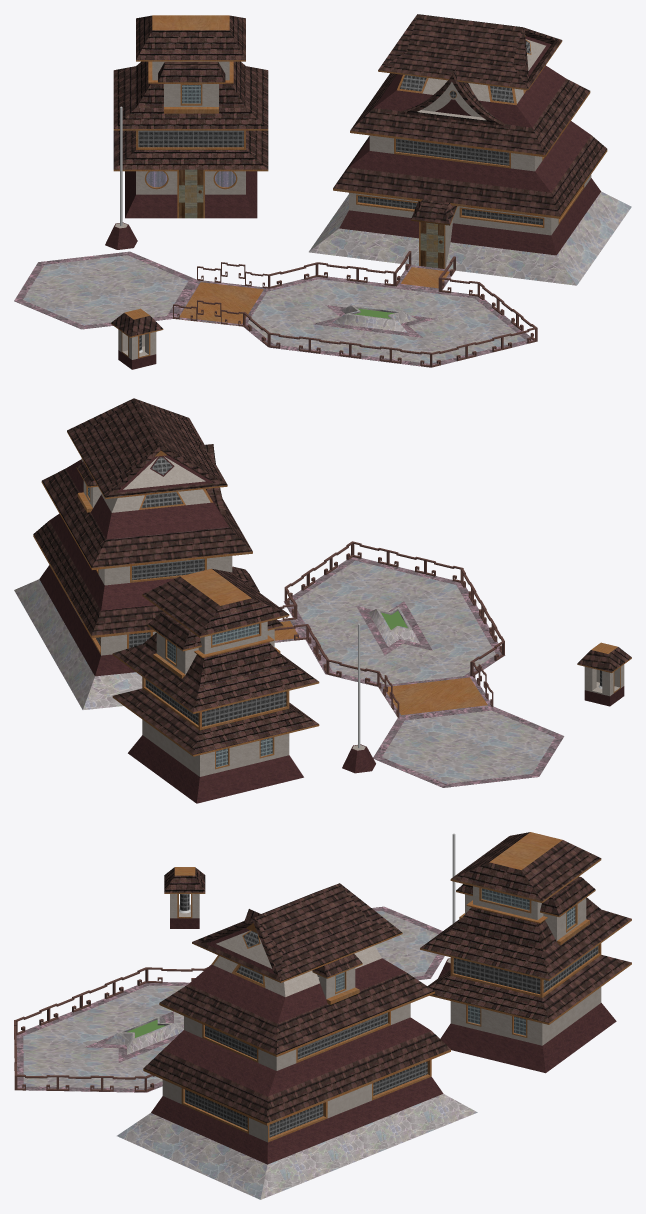
Rendered from NinjaBase.fbx.
The picture shows the model from 3 angles, top to bottom: view 1: azimuth 30°, elevation 25°; view 2: azimuth 150°, elevation 25°; view 3: azimuth 270°, elevation 25°; orthographic projection. The views are drawn at different scales.
Visible parts, largest first — view 1: Group8, Group4, Group1, Group3, Group7, Group6, Group2; view 2: Group8, Group4, Group1, Group3, Group7, Group6; view 3: Group8, Group4, Group1, Group3, Group7.
Part boxes in pixels (x1,y1,x2,y2): Group8: (309, 14, 631, 285); Group4: (113, 15, 268, 218); Group1: (243, 276, 532, 367); Group3: (14, 251, 268, 329); Group7: (111, 308, 163, 369); Group6: (105, 106, 137, 249); Group2: (397, 265, 451, 290); Group8: (14, 398, 259, 709); Group4: (112, 568, 319, 803); Group1: (283, 557, 505, 686); Group3: (373, 675, 564, 787); Group7: (577, 642, 631, 706); Group6: (342, 623, 375, 773); Group8: (117, 883, 477, 1199); Group4: (420, 832, 631, 1073); Group1: (16, 982, 189, 1092); Group3: (372, 906, 444, 979); Group7: (164, 867, 205, 928).
Size of the model in its own units: 755 by 269 by 673.
